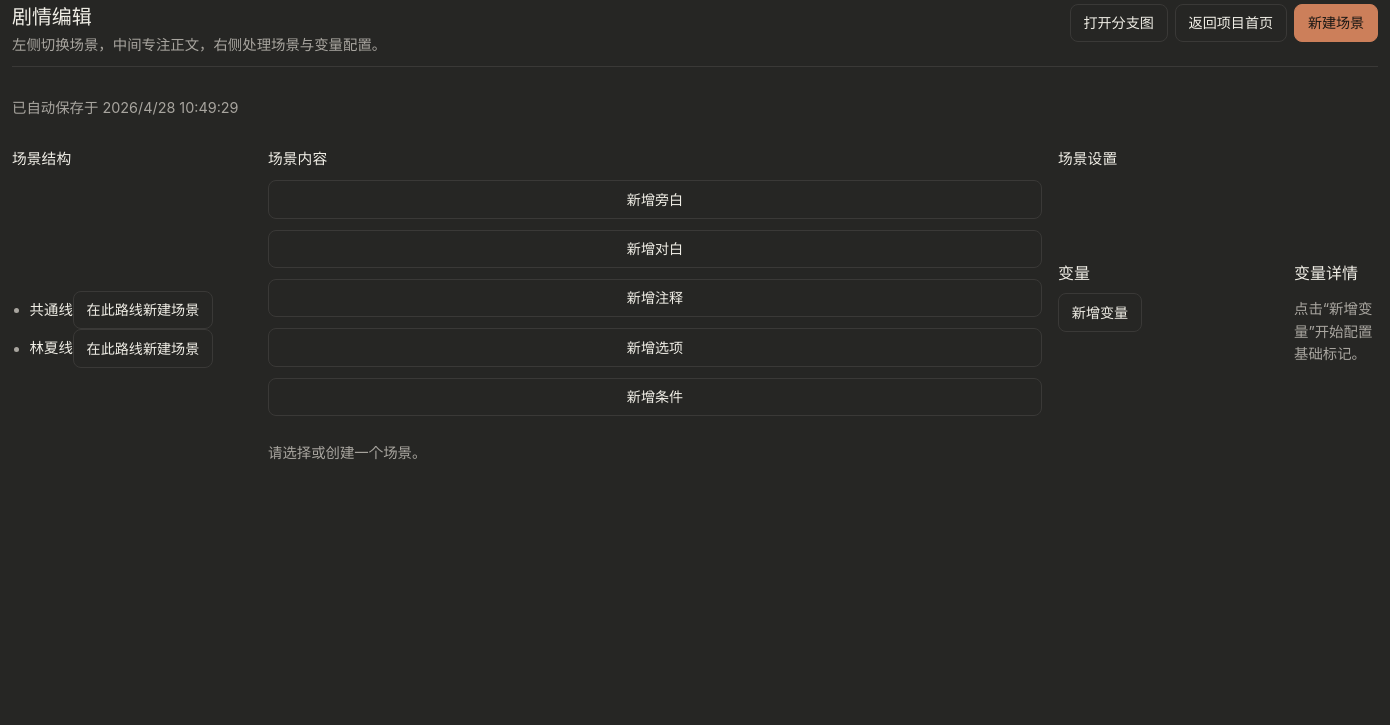
EditorPage › 存在项目路线时允许在指定路线下新建场景
Click the button "在此路线新建场景" next to "共通线".
click(143, 310)  # box [73,291,213,329]
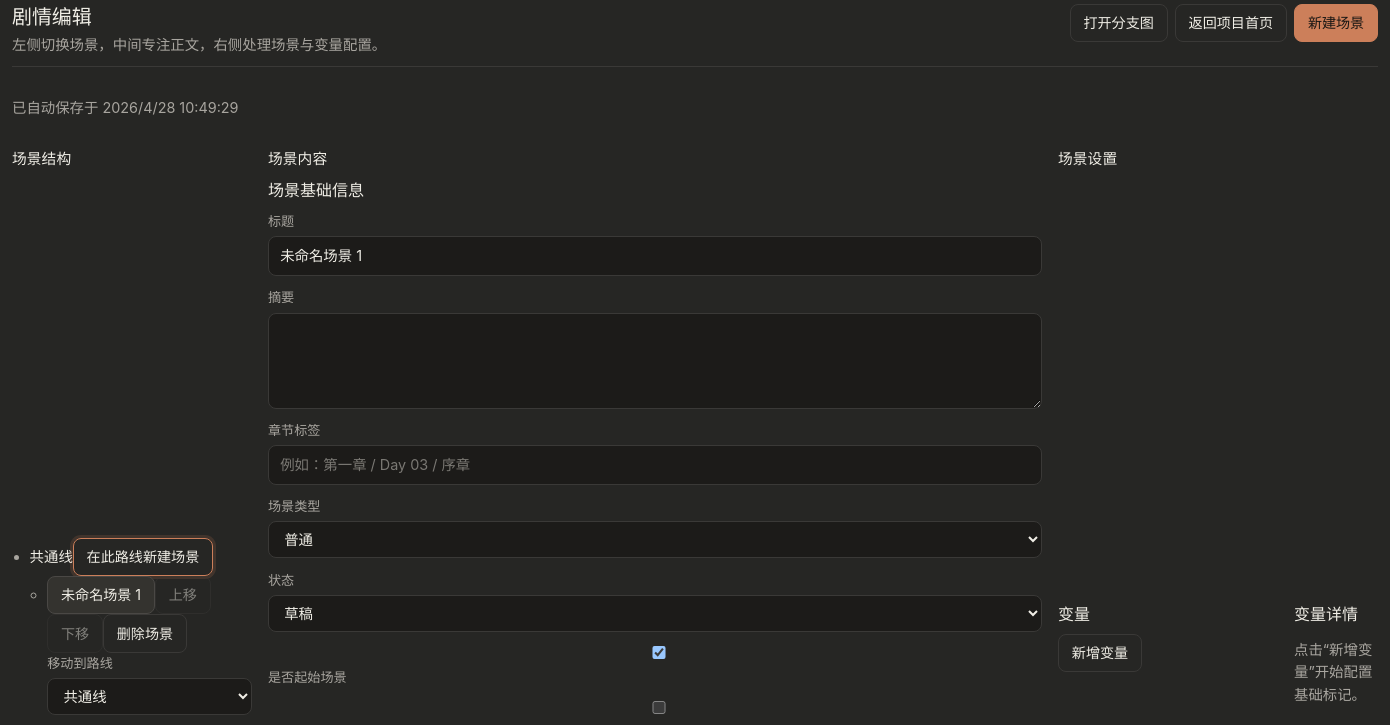
Expected: the text "共通线" is shown, [30,548,73,565]
Expected: the button "未命名场景 1" is shown, [47,576,155,614]
